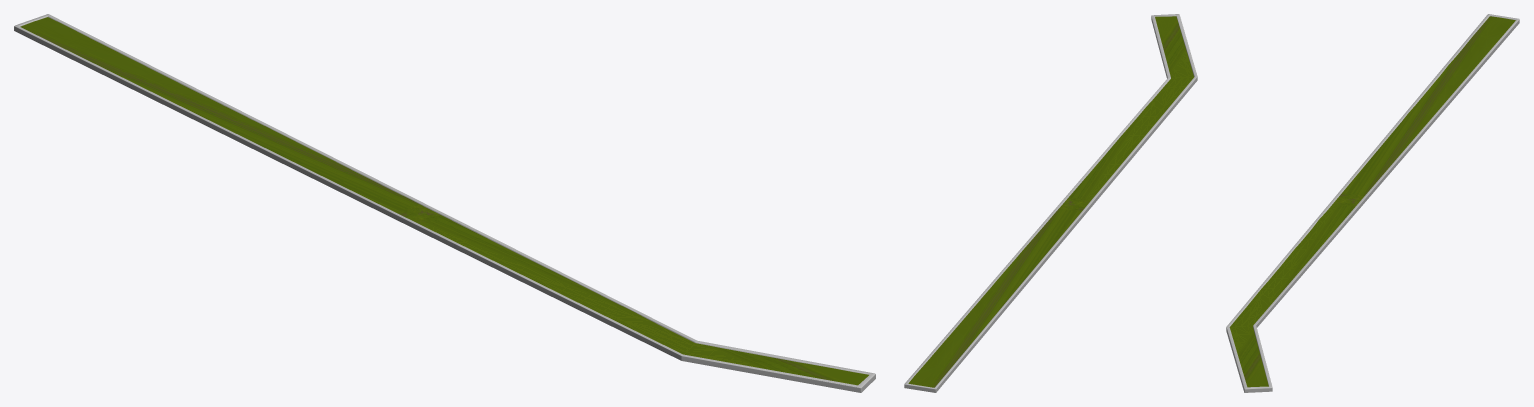
The model's file is objects_un_t05flowerbed01.gltf.
3 views of the same model, side by side, from view 1: azimuth 30°, elevation 25°; view 2: azimuth 150°, elevation 25°; view 3: azimuth 330°, elevation 25° (orthographic). The views are drawn at different scales.
Visible parts, largest first — view 1: um_objects_un_t05flowerbed01_model_lod0Shape:objects_un_t05f (×2), um_objects_un_t05flowerbed01_model_lod2Shape:objects_un_t05f (×2), um_objects_un_t05flowerbed01_model_lod1Shape:objects_un_t05f; view 2: um_objects_un_t05flowerbed01_model_lod0Shape:objects_un_t05f (×2), um_objects_un_t05flowerbed01_model_lod2Shape:objects_un_t05f (×2), um_objects_un_t05flowerbed01_model_lod1Shape:objects_un_t05f; view 3: um_objects_un_t05flowerbed01_model_lod0Shape:objects_un_t05f (×2), um_objects_un_t05flowerbed01_model_lod2Shape:objects_un_t05f (×2), um_objects_un_t05flowerbed01_model_lod1Shape:objects_un_t05f (×2).
Boxes of the visible parts, x1=… form: um_objects_un_t05flowerbed01_model_lod0Shape:objects_un_t05f (×2): x1=14, y1=14, x2=875, y2=392; um_objects_un_t05flowerbed01_model_lod2Shape:objects_un_t05f (×2): x1=19, y1=15, x2=875, y2=392; um_objects_un_t05flowerbed01_model_lod1Shape:objects_un_t05f: x1=20, y1=17, x2=842, y2=378; um_objects_un_t05flowerbed01_model_lod0Shape:objects_un_t05f (×2): x1=904, y1=14, x2=1197, y2=392; um_objects_un_t05flowerbed01_model_lod2Shape:objects_un_t05f (×2): x1=904, y1=14, x2=1197, y2=387; um_objects_un_t05flowerbed01_model_lod1Shape:objects_un_t05f: x1=911, y1=26, x2=1191, y2=387; um_objects_un_t05flowerbed01_model_lod0Shape:objects_un_t05f (×2): x1=1227, y1=14, x2=1519, y2=392; um_objects_un_t05flowerbed01_model_lod2Shape:objects_un_t05f (×2): x1=1226, y1=15, x2=1516, y2=392; um_objects_un_t05flowerbed01_model_lod1Shape:objects_un_t05f (×2): x1=1229, y1=16, x2=1515, y2=385.
Bounding box in the file's own units: 33.12 × 0.5529 × 116.
2 materials, 2 textured.
